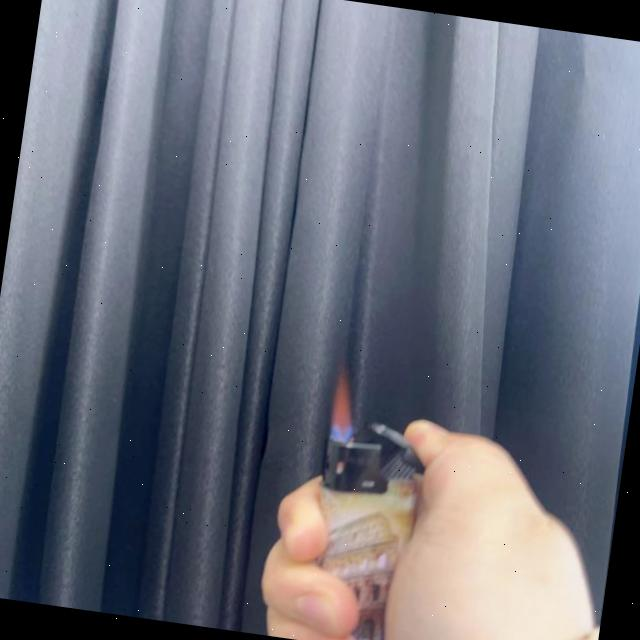fire: (324, 369, 364, 445)
